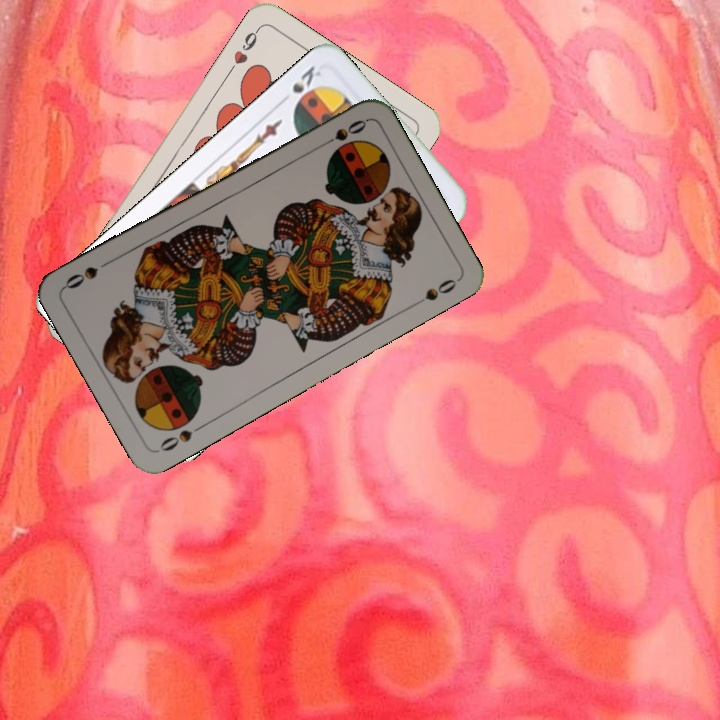H9: (224, 23, 263, 76)
SK: (288, 61, 324, 110)
SO: (315, 115, 370, 151), (155, 419, 208, 455)
